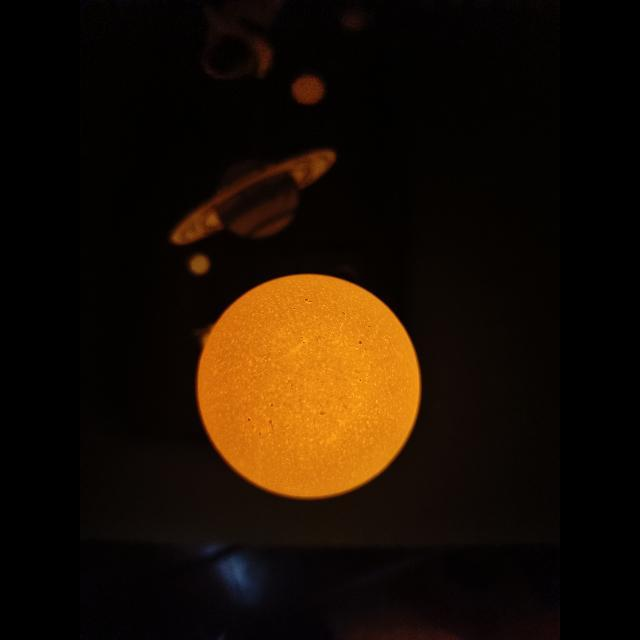AA - Premium: (196, 274, 420, 499)
